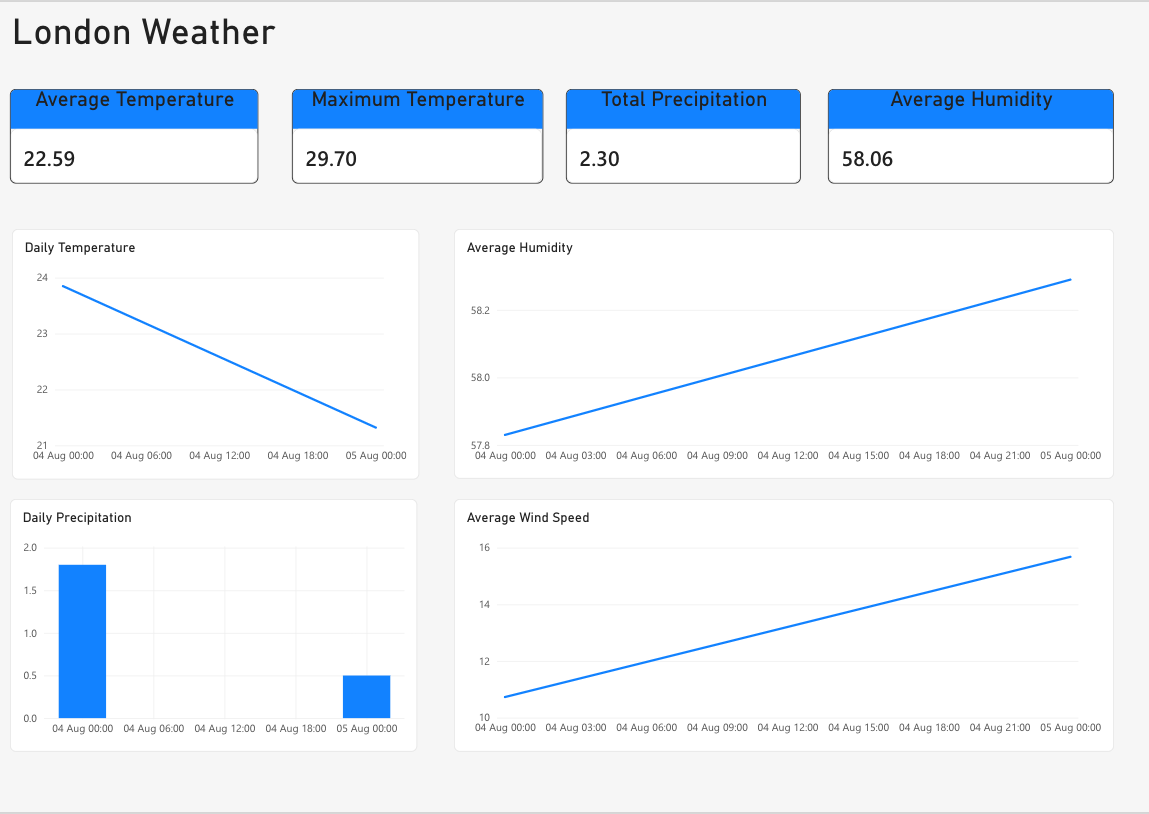

The page's visual inventory and layout, read from the dashboard file:
{"tool":"powerbi","page":{"name":"Page 1","canvas":[1920,1080],"ordinal":0},"visuals":[{"type":"textbox","title":"London Weather Overview","box":[57,17.8,603.8,44.5],"z":0},{"type":"cardVisual","title":"Average Temperature","fields":{"Data":["Avg(gold_daily_weather.avg_temperature)"]},"box":[55.2,115.8,331.3,126.5],"z":1000},{"type":"cardVisual","title":"Maximum Temperature","fields":{"Data":["Max(gold_daily_weather.max_temperature)"]},"box":[431,115.8,334.8,126.5],"z":2000},{"type":"cardVisual","title":"Total Precipitation","fields":{"Data":["Sum(gold_daily_weather.total_precipitation)"]},"box":[796.1,115.8,313.5,126.5],"z":3000},{"type":"cardVisual","title":"Average Humidity","fields":{"Data":["Avg(gold_daily_weather.avg_humidity)"]},"box":[1145.2,115.8,381.2,126.5],"z":4000},{"type":"lineChart","title":"Daily Temperature","fields":{"Category":["gold_daily_weather.observation_date"],"Y":["Sum(gold_daily_weather.avg_temperature)"]},"box":[57,302.8,543,333.6],"z":5000},{"type":"lineChart","title":"Average Humidity","fields":{"Category":["gold_daily_weather.observation_date"],"Y":["Sum(gold_daily_weather.avg_humidity)"]},"box":[646.5,302.8,879.9,333.1],"z":6000},{"type":"clusteredColumnChart","title":"Daily Precipitation","fields":{"Category":["gold_daily_weather.observation_date"],"Y":["Sum(gold_daily_weather.total_precipitation)"]},"box":[55.2,662.6,543,337.2],"z":6001},{"type":"lineChart","title":"Average Wind Speed","fields":{"Category":["gold_daily_weather.observation_date"],"Y":["Sum(gold_daily_weather.avg_wind_speed)"]},"box":[646.5,662.6,879.9,336.6],"z":6002}]}

Visuals, with their boxes on the page's 1920x1080 design canvas (x1, y1, x2, y2). These are canvas units, not pixel positions in the 1149x814 screenshot, which may show the page scaled, cropped or inside an application window:
"London Weather Overview" textbox: <bbox>57, 18, 661, 62</bbox>
"Average Temperature" cardVisual: <bbox>55, 116, 386, 242</bbox>
"Maximum Temperature" cardVisual: <bbox>431, 116, 766, 242</bbox>
"Total Precipitation" cardVisual: <bbox>796, 116, 1110, 242</bbox>
"Average Humidity" cardVisual: <bbox>1145, 116, 1526, 242</bbox>
"Daily Temperature" lineChart: <bbox>57, 303, 600, 636</bbox>
"Average Humidity" lineChart: <bbox>646, 303, 1526, 636</bbox>
"Daily Precipitation" clusteredColumnChart: <bbox>55, 663, 598, 1000</bbox>
"Average Wind Speed" lineChart: <bbox>646, 663, 1526, 999</bbox>
